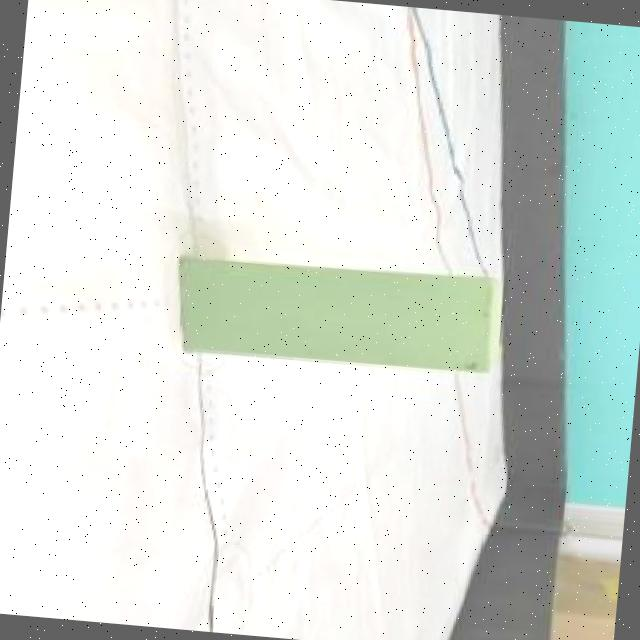greenbox: (164, 250, 506, 380)
